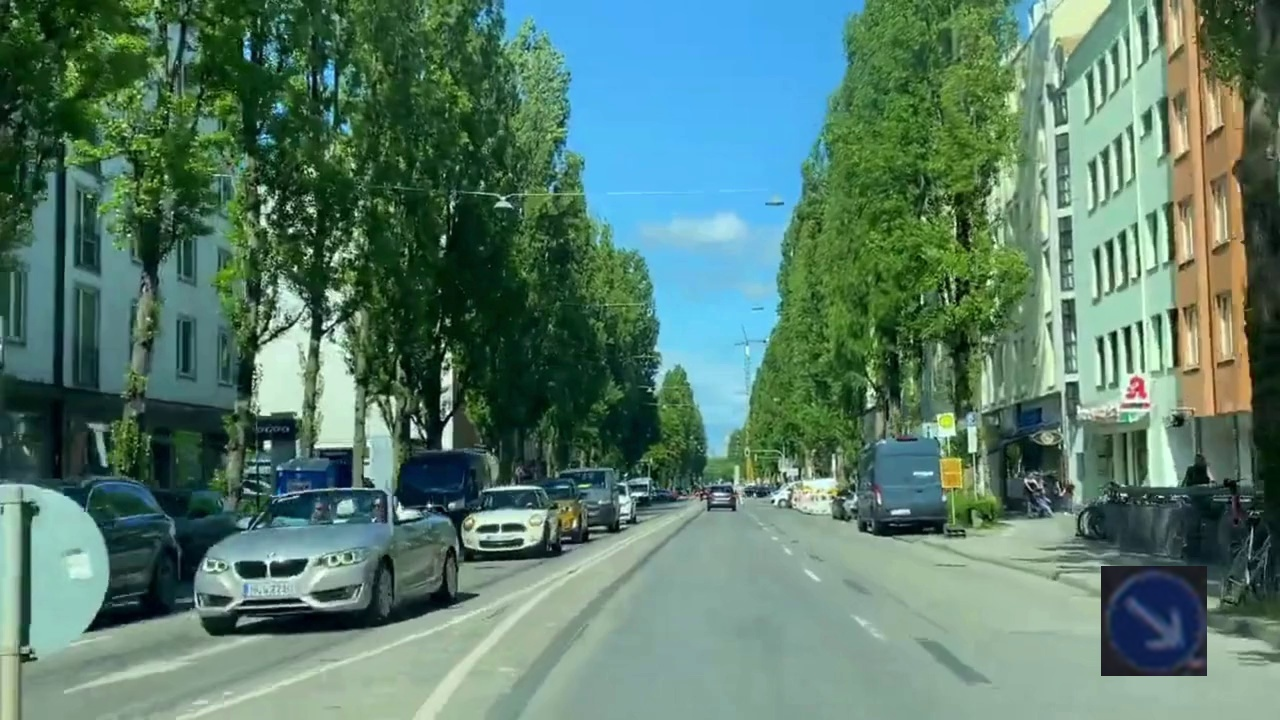Keep right: (1101, 566, 1207, 676)
